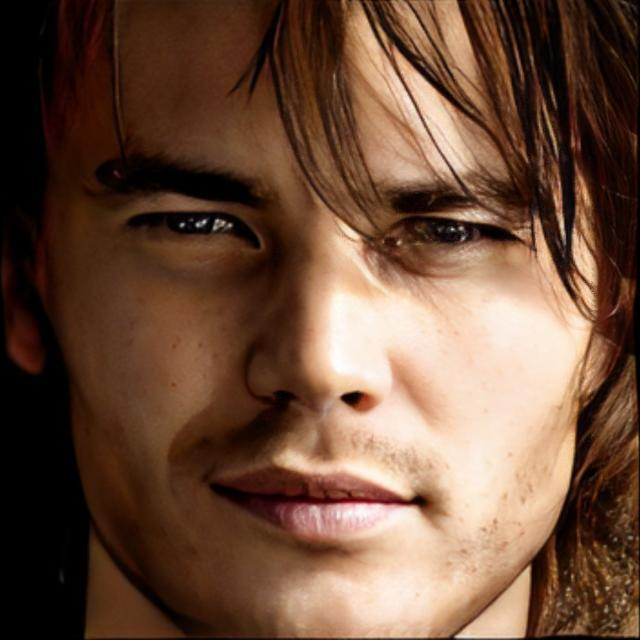content: (46, 0, 598, 640)
